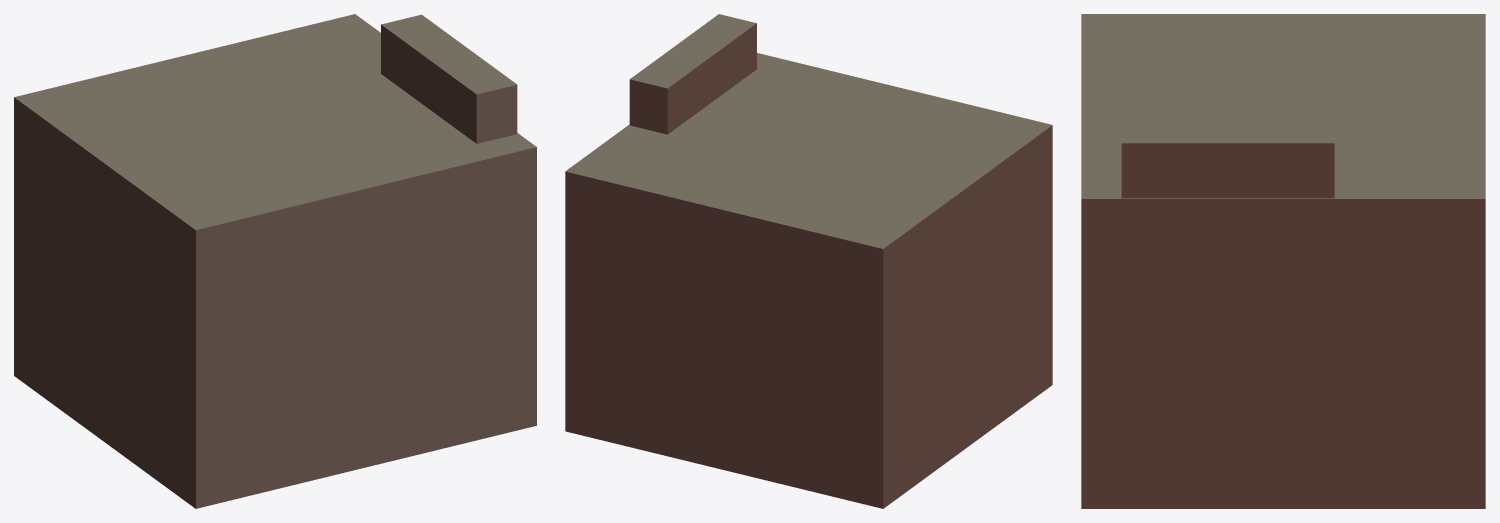
File: ns-corner-store.far-facades-v3.lod2.glb
3 renders of one model, left to right at view 1: azimuth 30°, elevation 25°; view 2: azimuth 150°, elevation 25°; view 3: azimuth 270°, elevation 25°, orthographic. The views are drawn at different scales.
Parts seen in each view (by area): view 1: ns-corner-store; view 2: ns-corner-store; view 3: ns-corner-store.
Boxes of the visible parts, x1,y1,x2,y2 form: ns-corner-store: (14, 14, 536, 508); ns-corner-store: (565, 14, 1052, 508); ns-corner-store: (1081, 14, 1485, 508).
Bounding box in the file's own units: 13 × 11.95 × 12.
